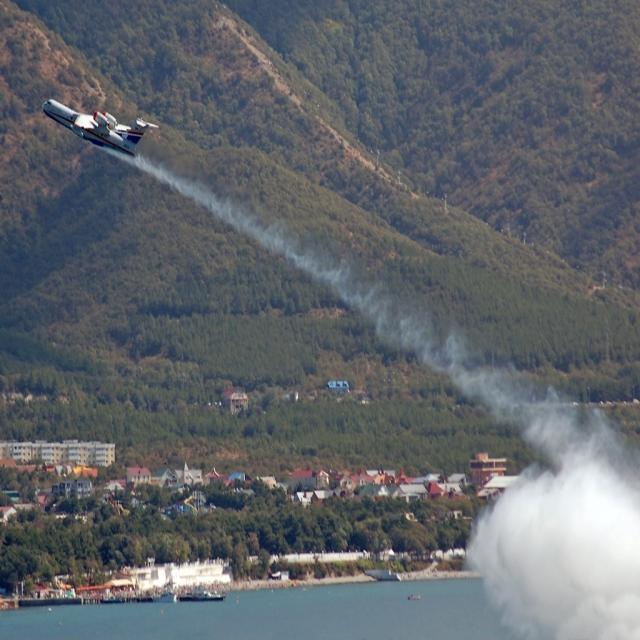MIL_Plane: (16, 98, 134, 159)
